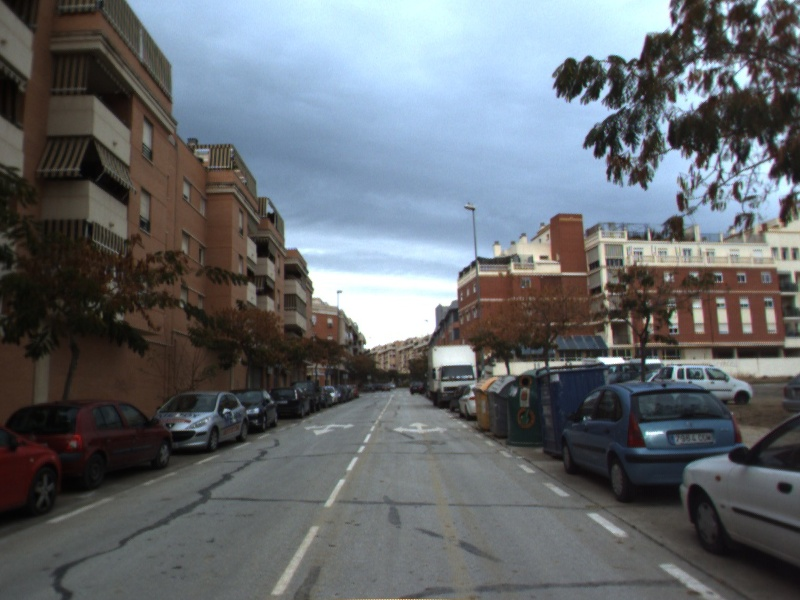STRAIGHT_LEFT_RIGHT: (391, 419, 451, 436)
